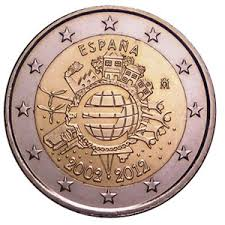eur002: (3, 3, 218, 220)
